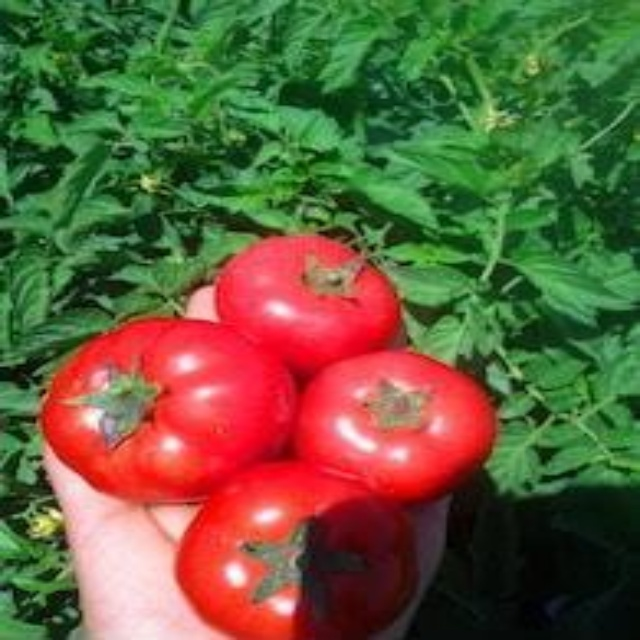tomato: (49, 325, 305, 507), (180, 467, 416, 631), (318, 354, 487, 487), (224, 239, 393, 362)
